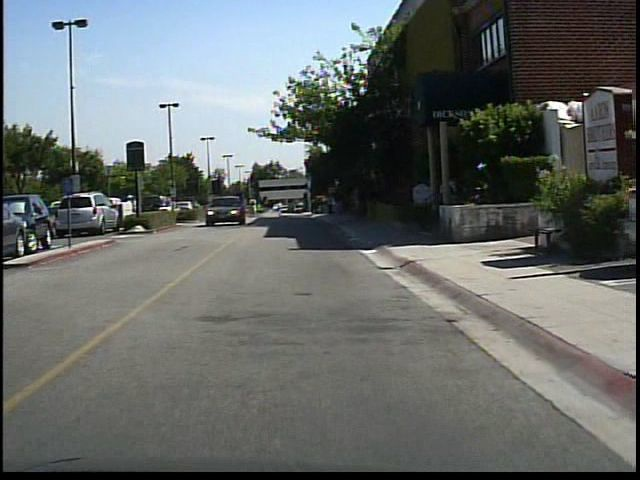person: (332, 180, 351, 218), (160, 190, 178, 227), (129, 193, 144, 228), (247, 193, 263, 224), (125, 191, 137, 228)
